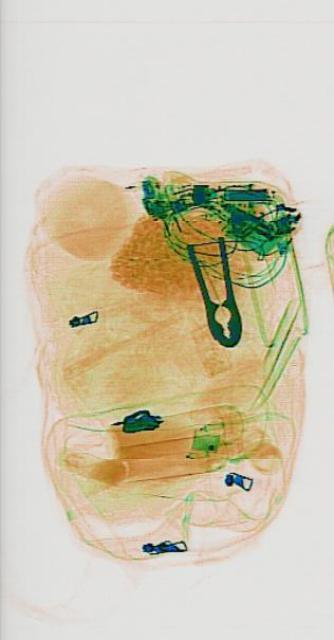Pliers: (182, 217, 247, 359)
